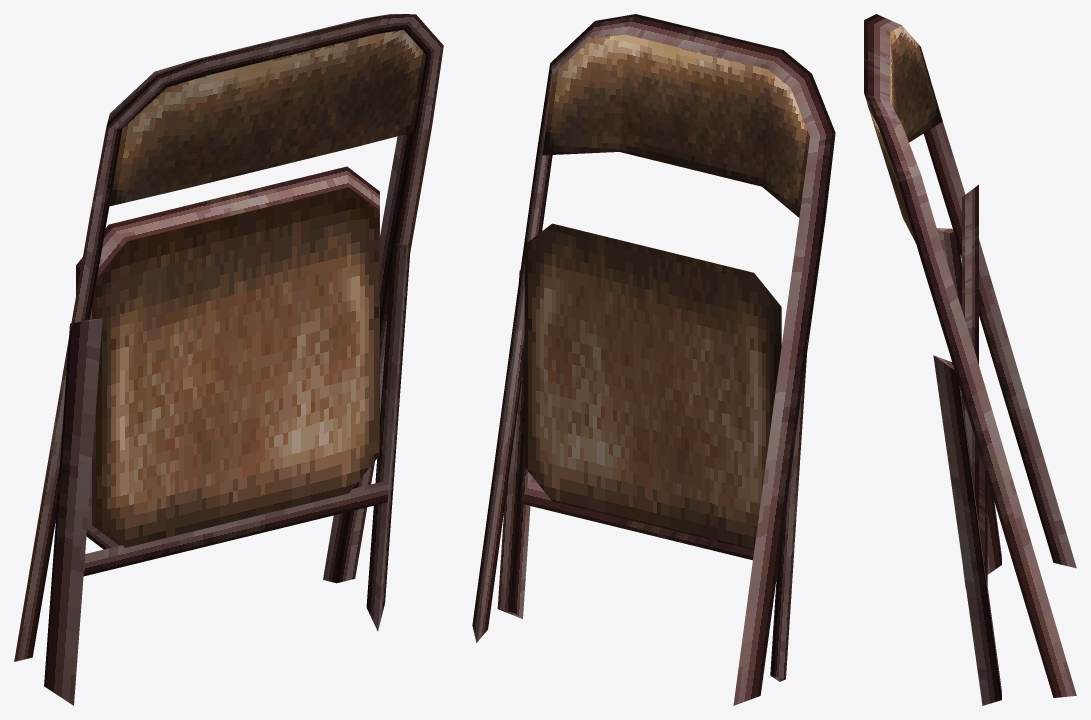
File: foldingchair_closed.fbx
3 views of the same model, side by side, from view 1: azimuth 30°, elevation 25°; view 2: azimuth 150°, elevation 25°; view 3: azimuth 270°, elevation 25° (orthographic). The views are drawn at different scales.
Visible parts, largest first — view 1: mesh_0; view 2: mesh_0; view 3: mesh_0.
Boxes of the visible parts, <box> form: mesh_0: <box>14,14,443,705</box>; mesh_0: <box>472,14,835,705</box>; mesh_0: <box>864,14,1076,705</box>.
Size of the model in its own units: 60.6 by 116 by 38.1.
1 material, 1 textured.
